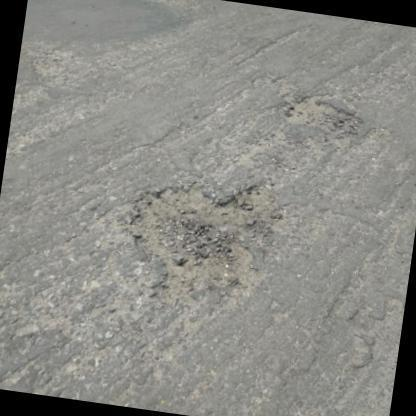pothole: (130, 178, 284, 307), (285, 94, 360, 138)
